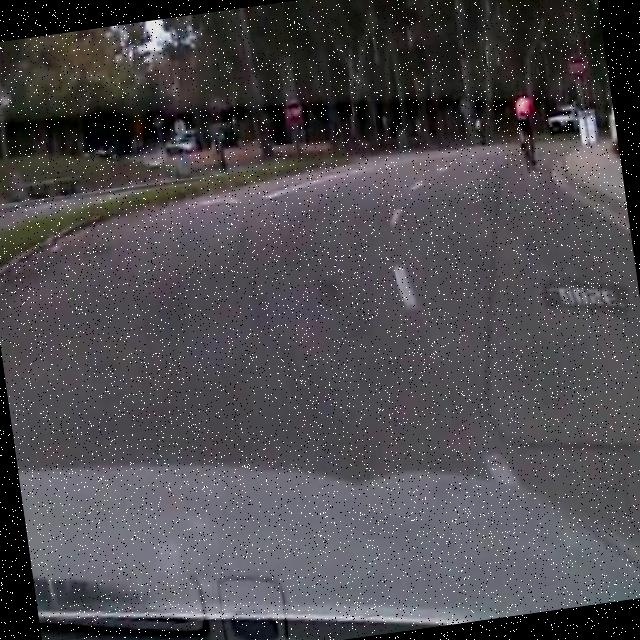Stop: (565, 53, 590, 85)
